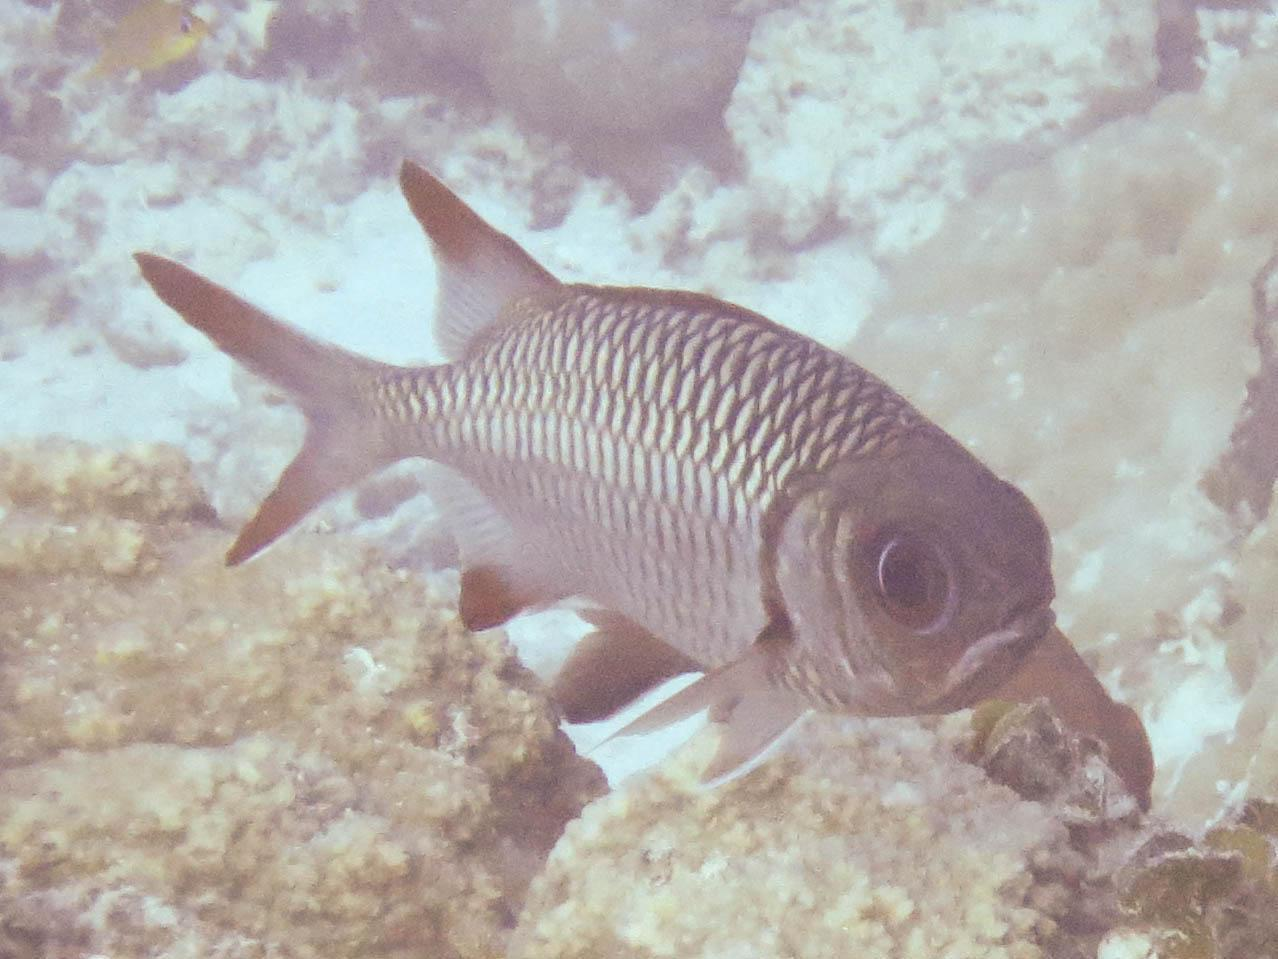Fish: (101, 154, 1081, 747)
